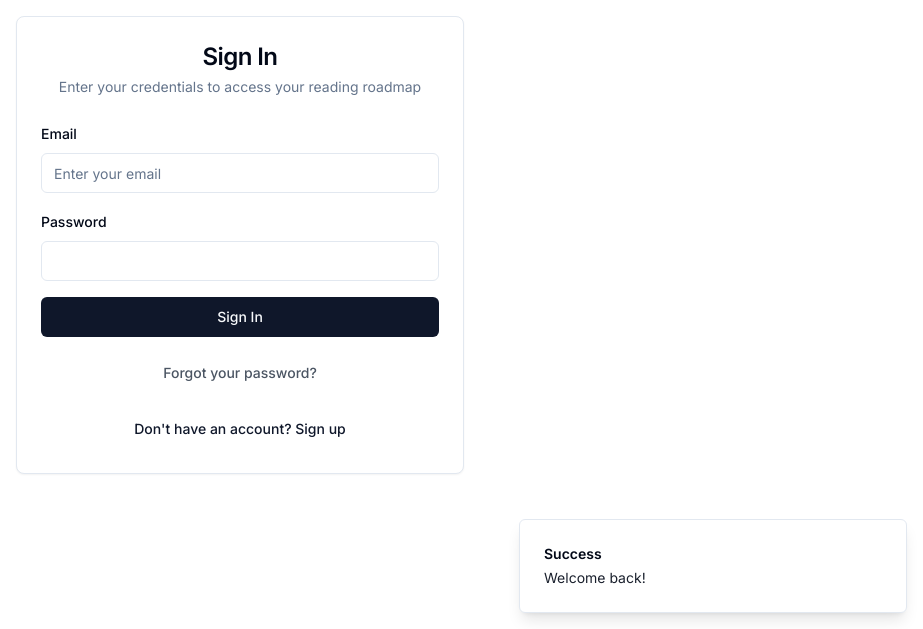
Complete Authentication Flow › Login Flow › should handle login errors
This screenshot has width=923, height=629.
Type "wrong@example.com" into the field labelled "Email" at (240, 173), box [41,153,439,193]
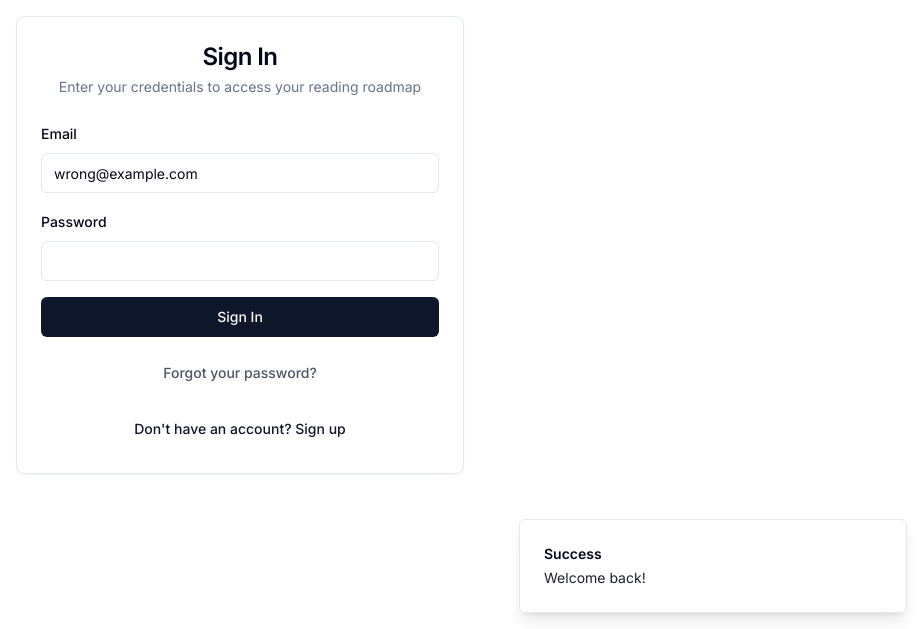
Type "wrongpassword" into the password field labelled "Password" at (240, 261), box [41,241,439,281]
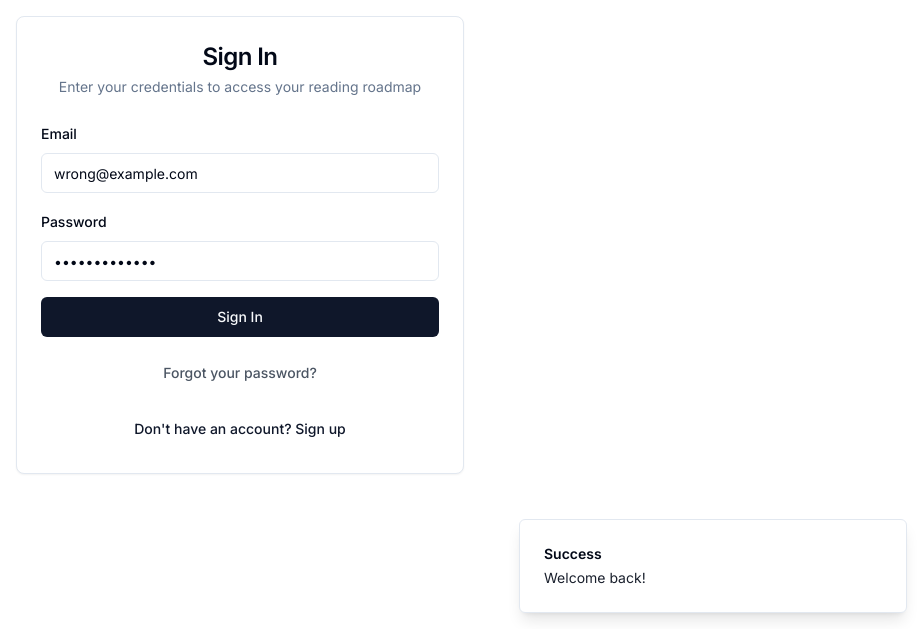
Click the button "Sign In" at (240, 317), box [41,297,439,337]
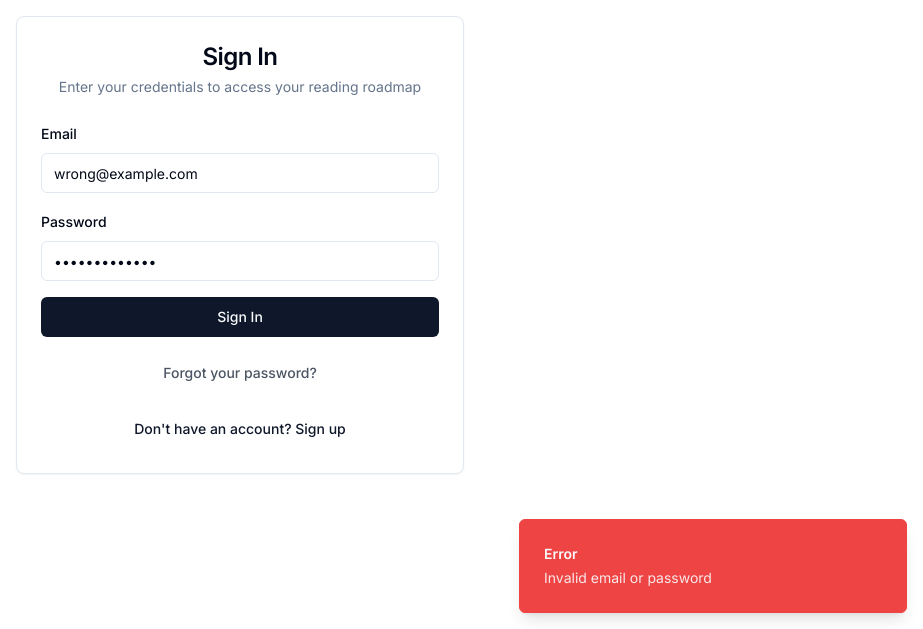
Check: the text "Error" is shown, box [544,545,578,562]
Check: the text "Invalid email or password" is shown, box [544,568,712,588]
